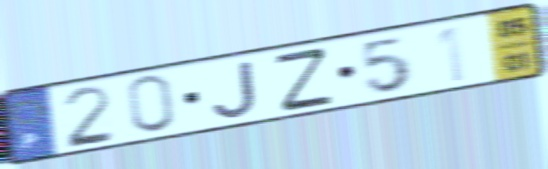0: (124, 73, 179, 137)
1: (436, 24, 467, 82)
2: (59, 83, 116, 150)
5: (362, 32, 417, 97)
J: (210, 58, 261, 120)
Z: (270, 44, 336, 115)
